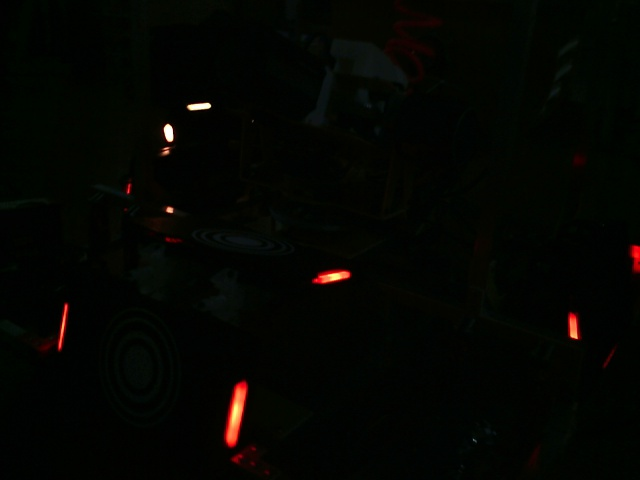lamp: (223, 377, 249, 450), (52, 297, 71, 354)
